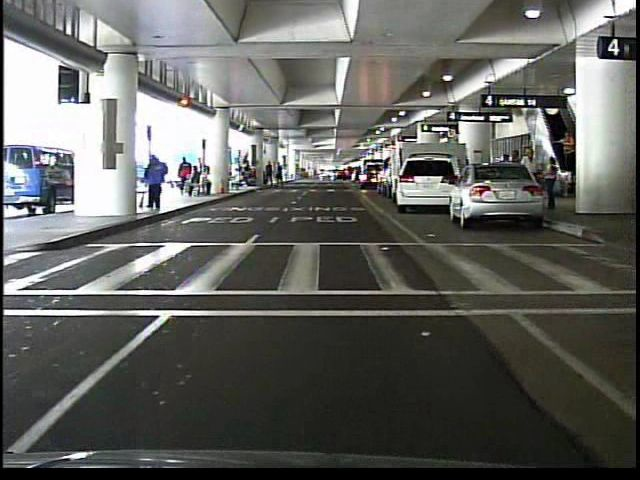person: (141, 154, 171, 213), (553, 126, 575, 174)
